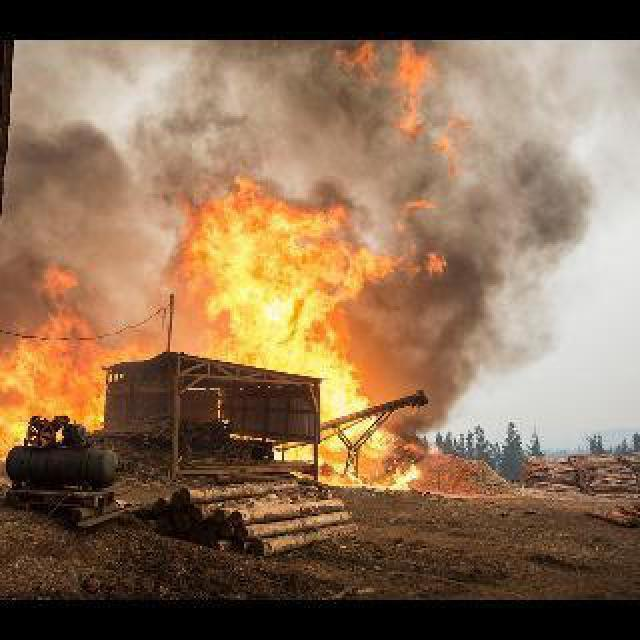fire: (4, 44, 169, 260), (469, 130, 592, 372), (122, 42, 337, 173)
smoke: (172, 174, 468, 454), (2, 242, 160, 456), (326, 42, 478, 180), (318, 460, 418, 484)
